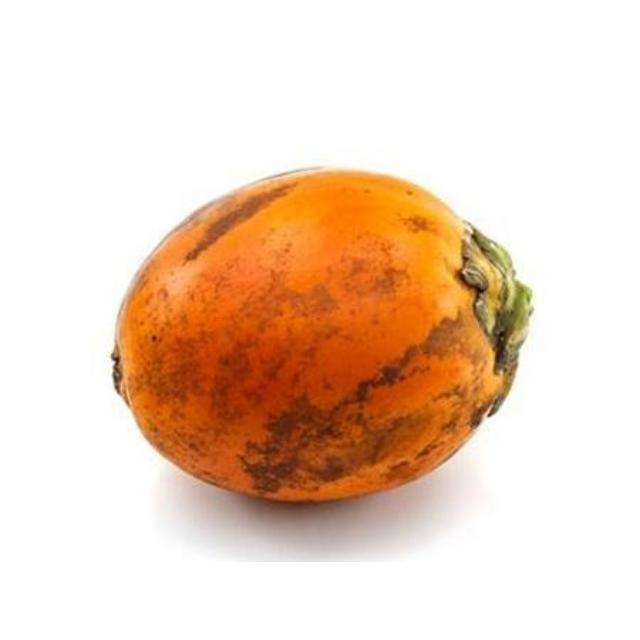good: (112, 168, 532, 505)
